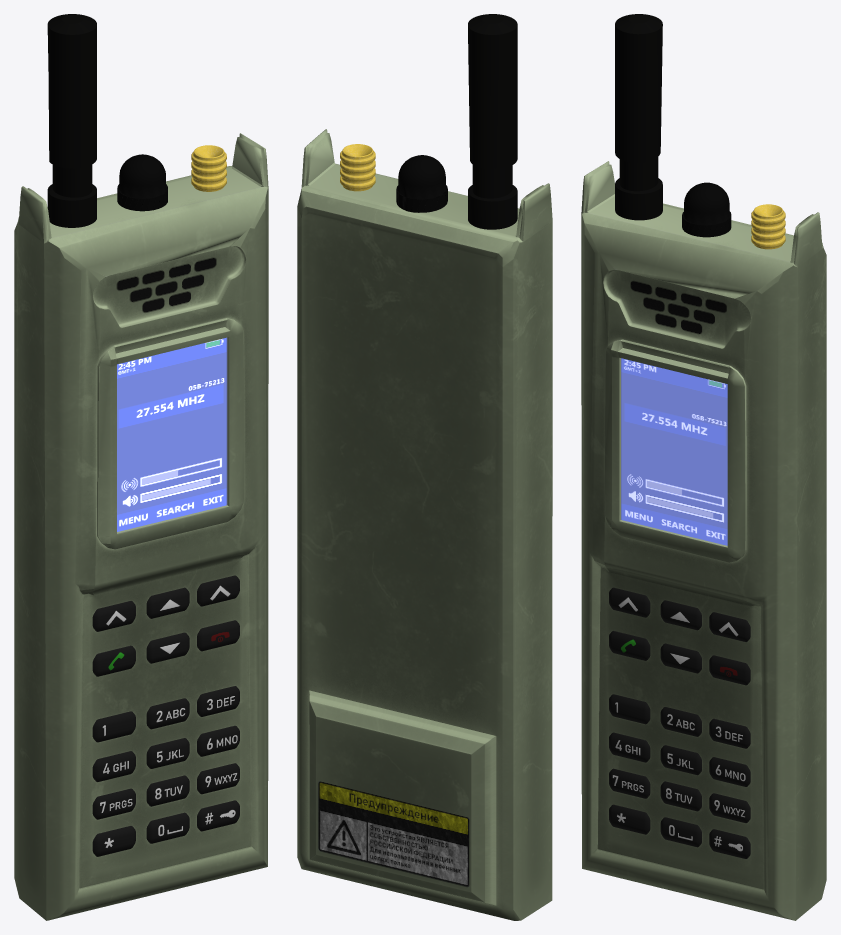
The model's file is RussianRadio.fbx.
The picture shows the model from 3 angles, left to right: view 1: azimuth 30°, elevation 25°; view 2: azimuth 150°, elevation 25°; view 3: azimuth 330°, elevation 25°; orthographic projection. The views are drawn at different scales.
Parts seen in each view (by area): view 1: StaticMesh1; view 2: StaticMesh1; view 3: StaticMesh1.
Boxes of the visible parts, x1,y1,x2,y2 form: StaticMesh1: [14, 14, 268, 920]; StaticMesh1: [297, 14, 552, 920]; StaticMesh1: [581, 14, 826, 920].
Size of the model in its own units: 53.4 by 26.32 by 200.
